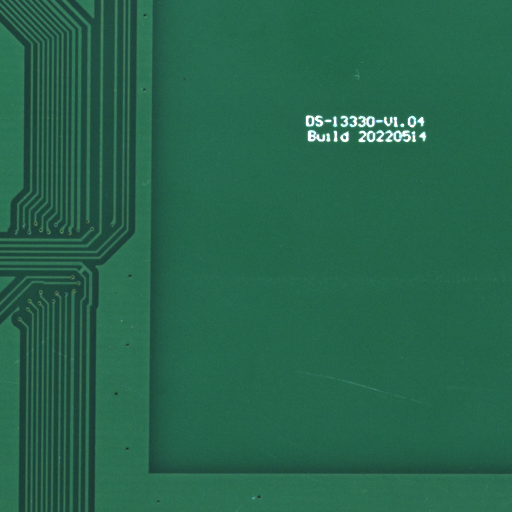Short: (82, 270, 90, 279)
